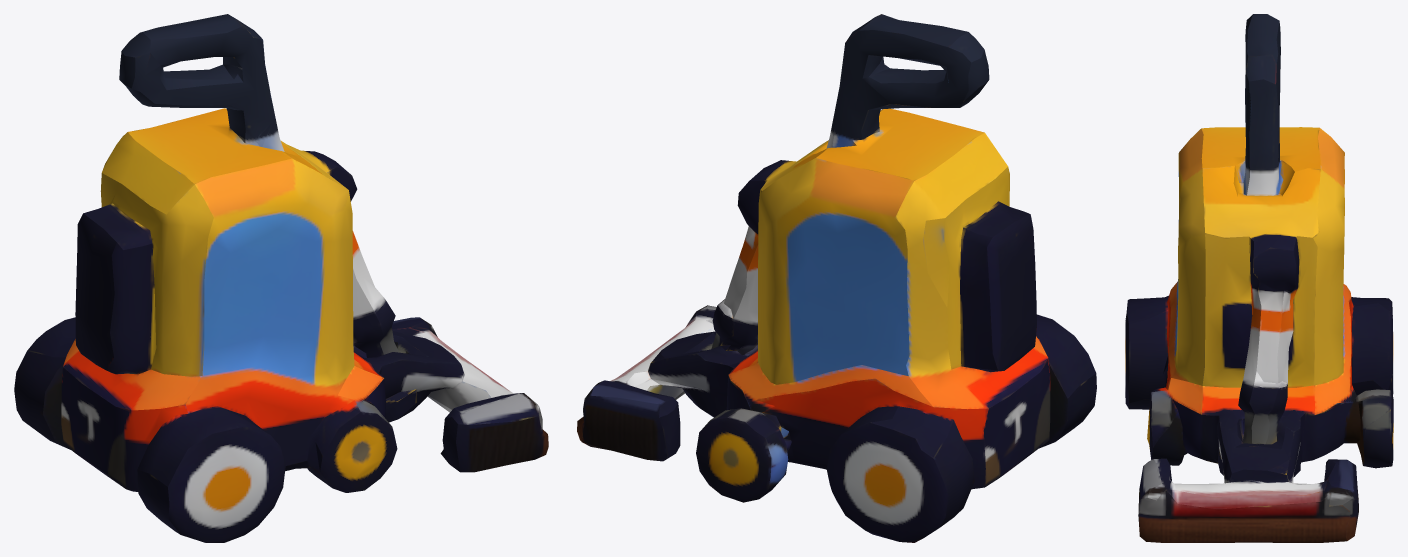
File: vacuum-stand.glb
The picture shows the model from 3 angles, left to right: view 1: azimuth 30°, elevation 25°; view 2: azimuth 150°, elevation 25°; view 3: azimuth 270°, elevation 25°; orthographic projection. The views are drawn at different scales.
Parts seen in each view (by area): view 1: geometry_0; view 2: geometry_0; view 3: geometry_0.
Boxes of the visible parts, <box> form: geometry_0: <box>14,14,548,542</box>; geometry_0: <box>577,14,1096,542</box>; geometry_0: <box>1125,14,1393,542</box>.
Bounding box in the file's own units: 0.9155 × 1 × 0.6241.
Materials: 1 (1 with a texture image).
